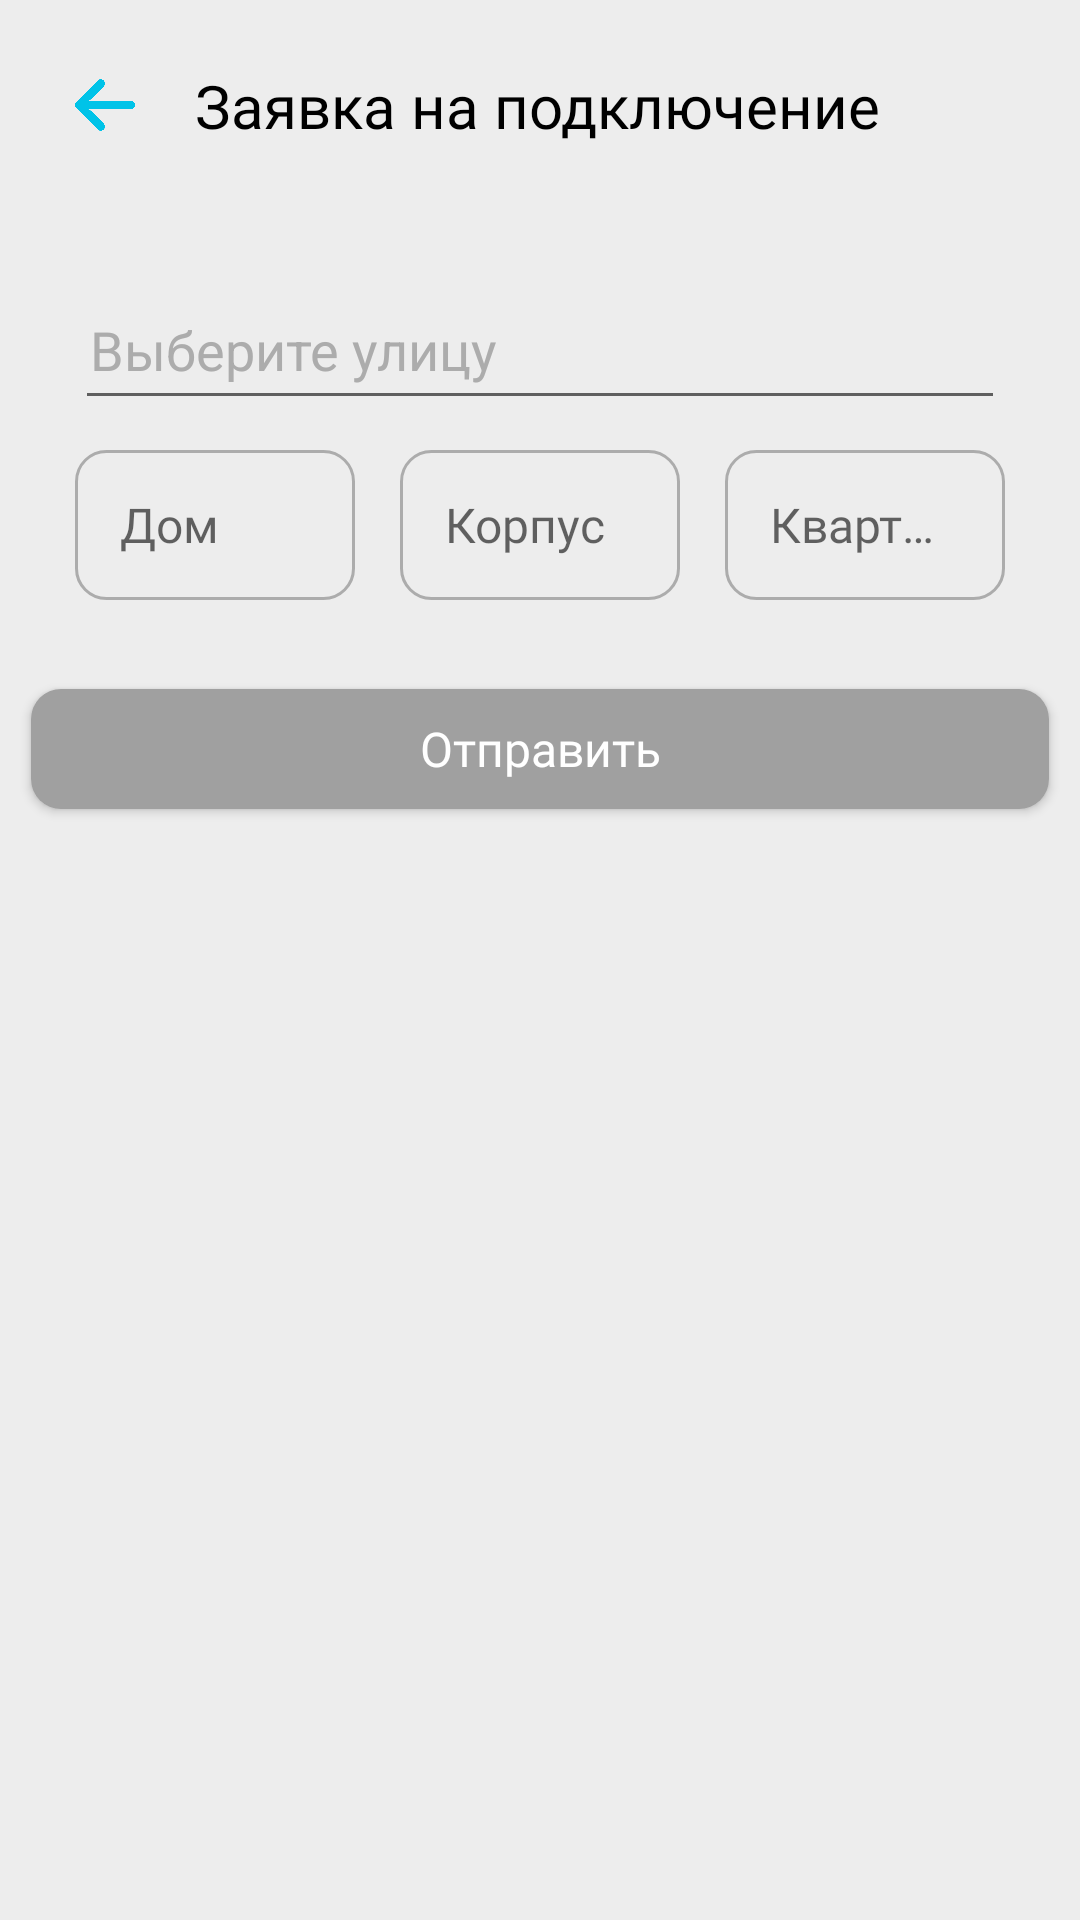

Icons on this 1080×1920 Android screen, each with its box as (x1,y1,x2,y2):
back press: (75,79,135,131)
